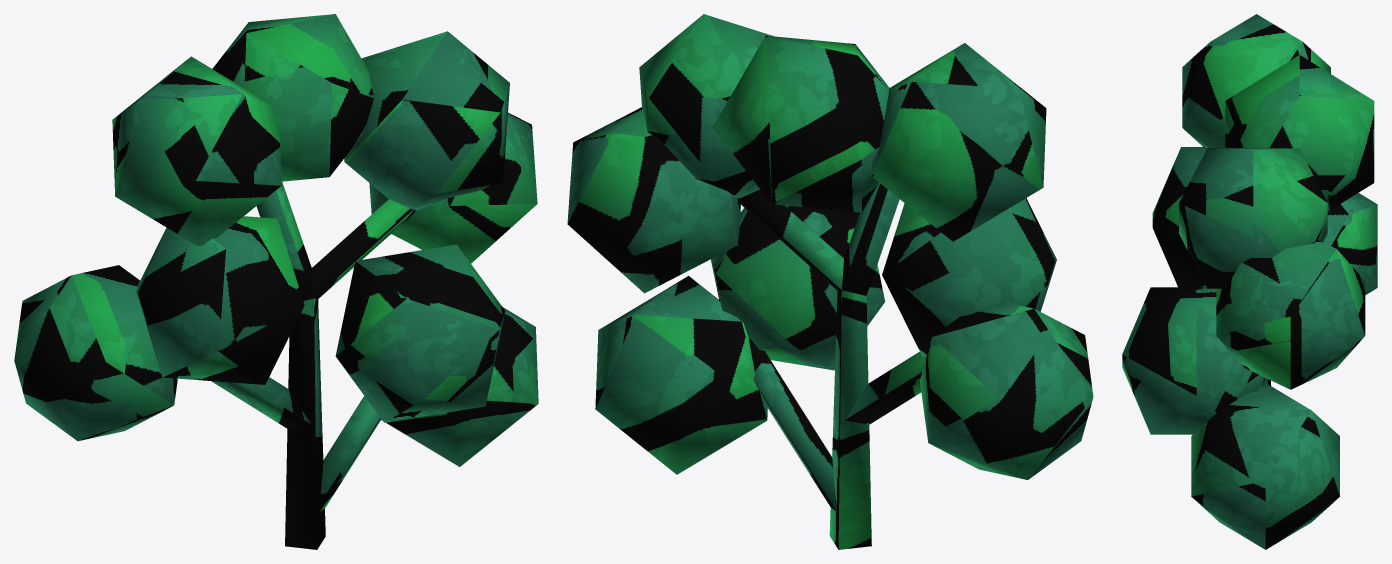
Rendered from BushC.fbx.
3 views of the same model, side by side, from view 1: azimuth 30°, elevation 25°; view 2: azimuth 150°, elevation 25°; view 3: azimuth 270°, elevation 25° (orthographic). The views are drawn at different scales.
Visible parts, largest first — view 1: BushA; view 2: BushA; view 3: BushA.
Boxes of the visible parts, bbox=[...] form: BushA: bbox=[14, 14, 538, 549]; BushA: bbox=[567, 14, 1093, 549]; BushA: bbox=[1122, 14, 1377, 549].
Size of the model in its own units: 292 by 601 by 559.
